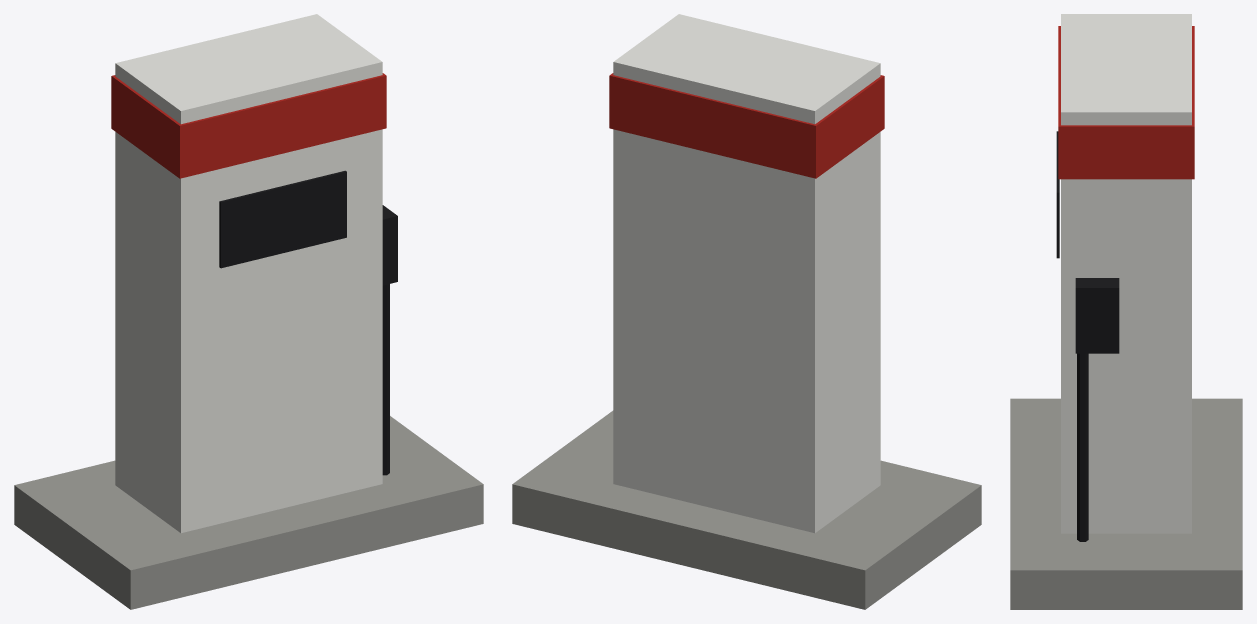
File: gas pump.glb
The picture shows the model from 3 angles, left to right: view 1: azimuth 30°, elevation 25°; view 2: azimuth 150°, elevation 25°; view 3: azimuth 270°, elevation 25°; orthographic projection.
Visible parts, largest first — view 1: gas pump; view 2: gas pump; view 3: gas pump.
Part boxes in pixels (x1,y1,x2,y2): gas pump: [14, 14, 483, 609]; gas pump: [512, 14, 981, 609]; gas pump: [1010, 14, 1242, 609].
Bounding box in the file's own units: 1.4 × 1.75 × 0.8.
